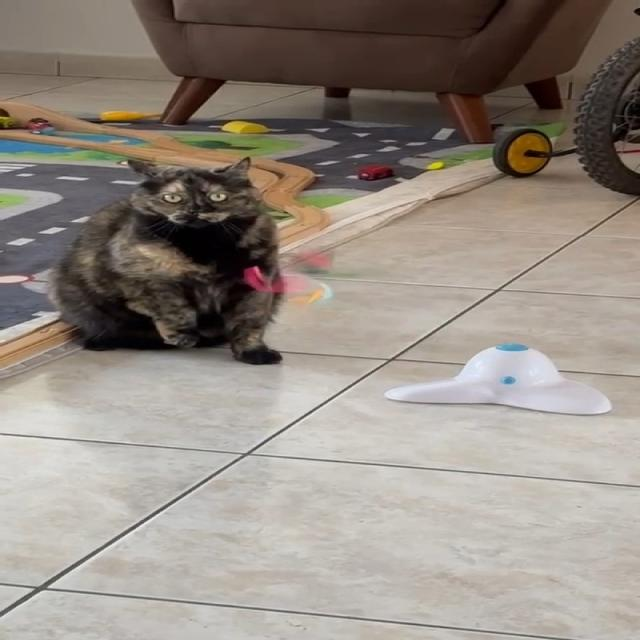authorized: (44, 156, 287, 366)
